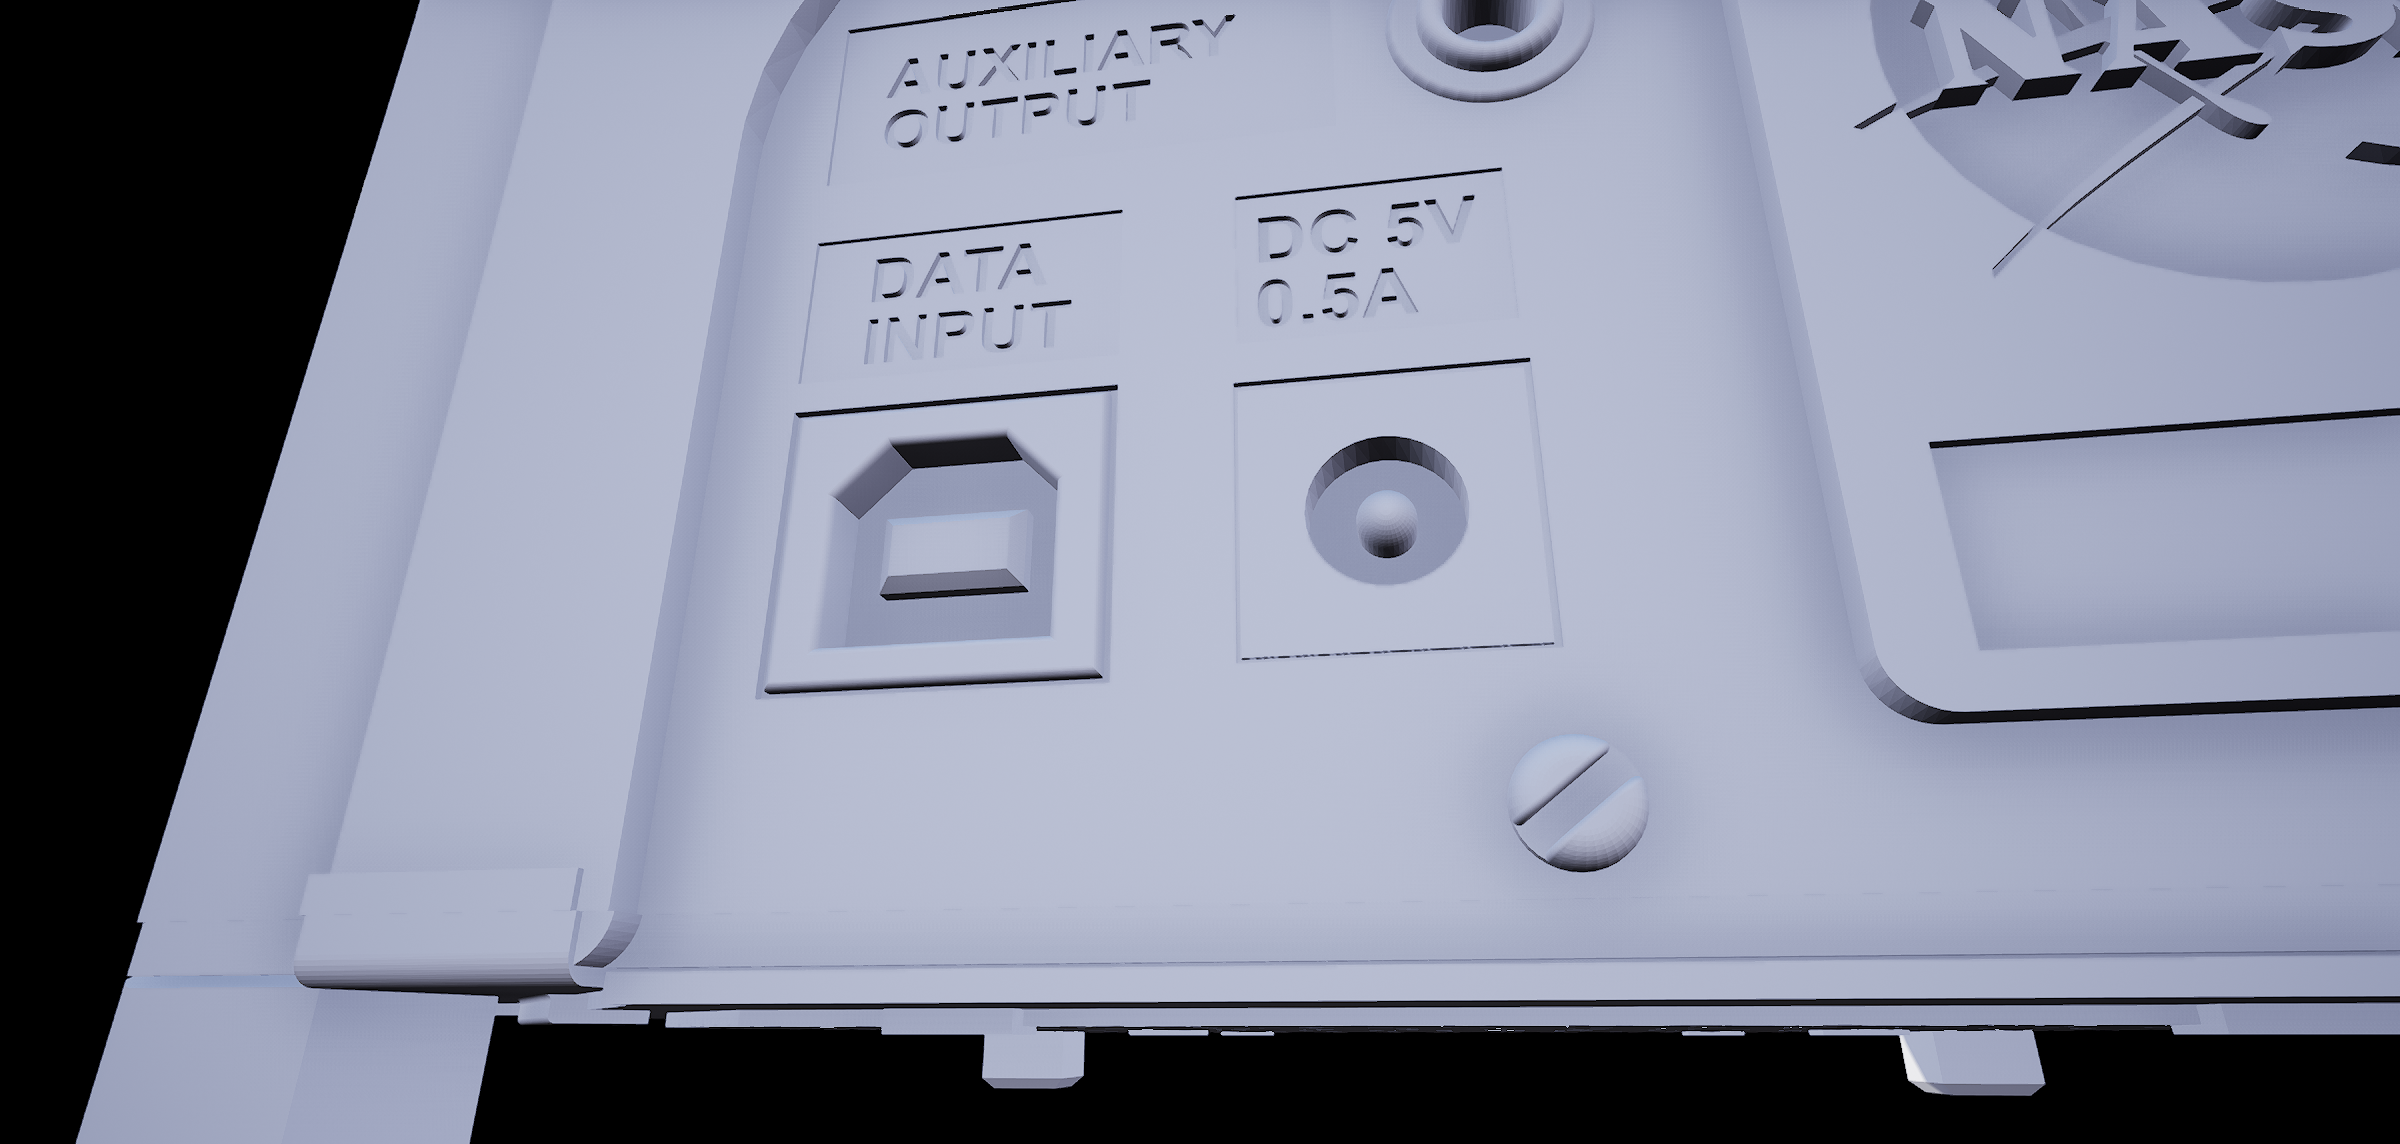aux: (1371, 2, 1618, 110)
dc: (1292, 423, 1494, 600)
usb: (820, 426, 1074, 655)
